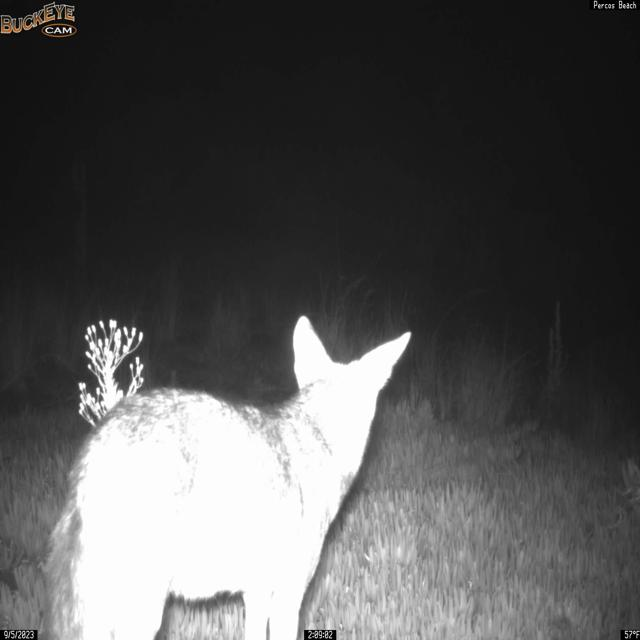coyote: (39, 313, 412, 640)
